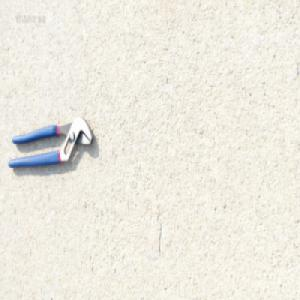Pliers: (7, 115, 93, 169)
